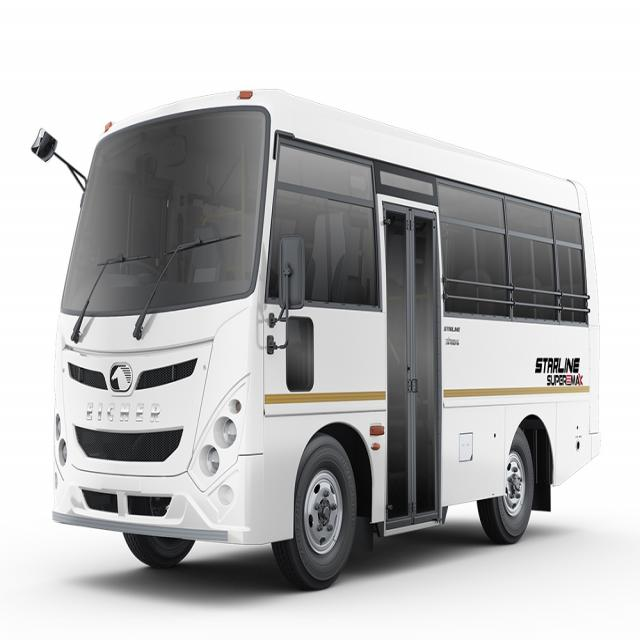bus: (39, 94, 603, 565)
